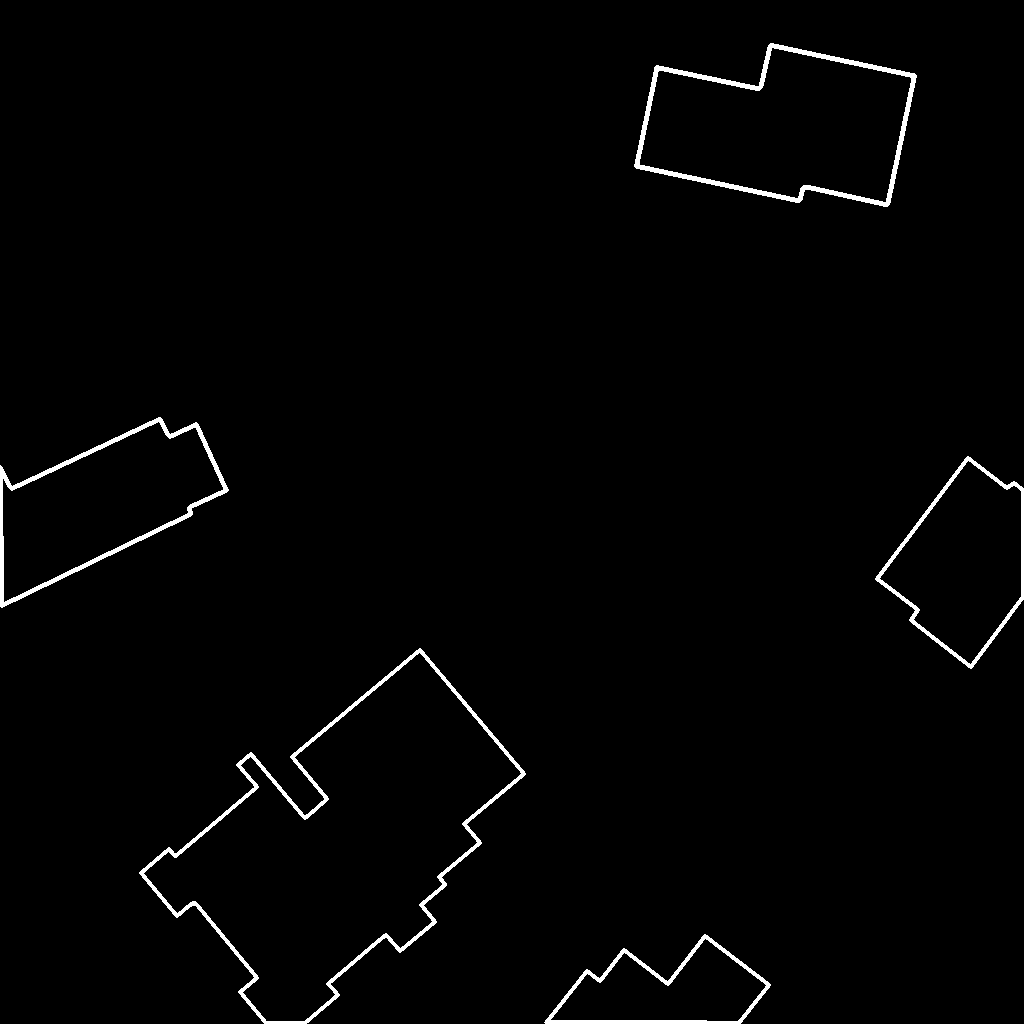building: (141, 650, 525, 1024), (636, 45, 916, 206), (0, 419, 228, 607), (877, 458, 1024, 668), (546, 936, 770, 1024)
